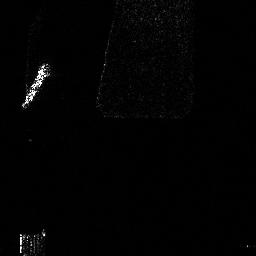ship: (21, 63, 52, 108)
